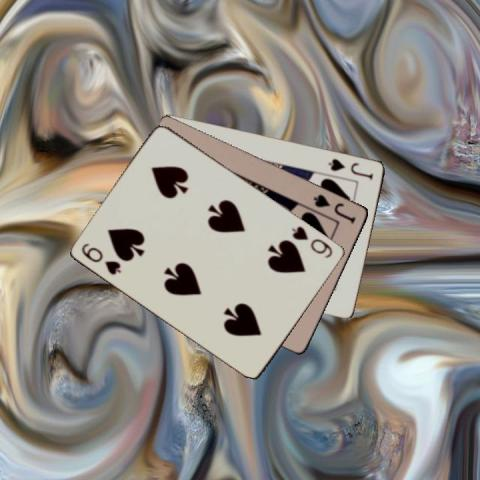6s: (289, 223, 335, 260), (78, 240, 122, 277)
Js: (311, 191, 357, 225), (325, 155, 375, 181)
